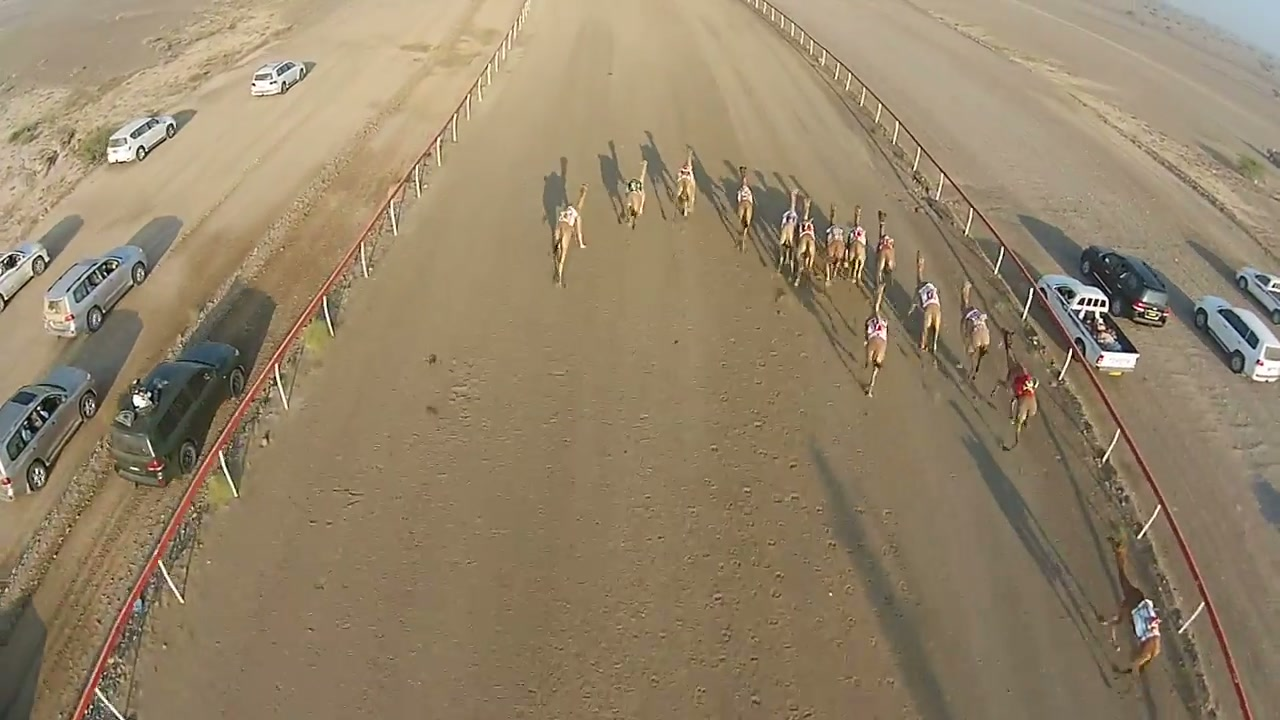animal_footprint: (666, 262, 964, 711)
